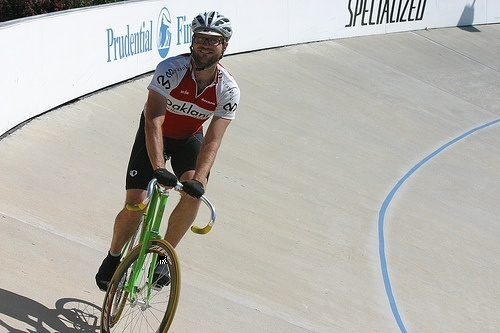car: (102, 179, 217, 333)
person: (95, 13, 242, 292)
person/foot: (95, 250, 122, 292), (153, 257, 171, 286)
person/hand: (181, 179, 204, 199), (154, 171, 176, 187)
person/head: (191, 10, 230, 66)
